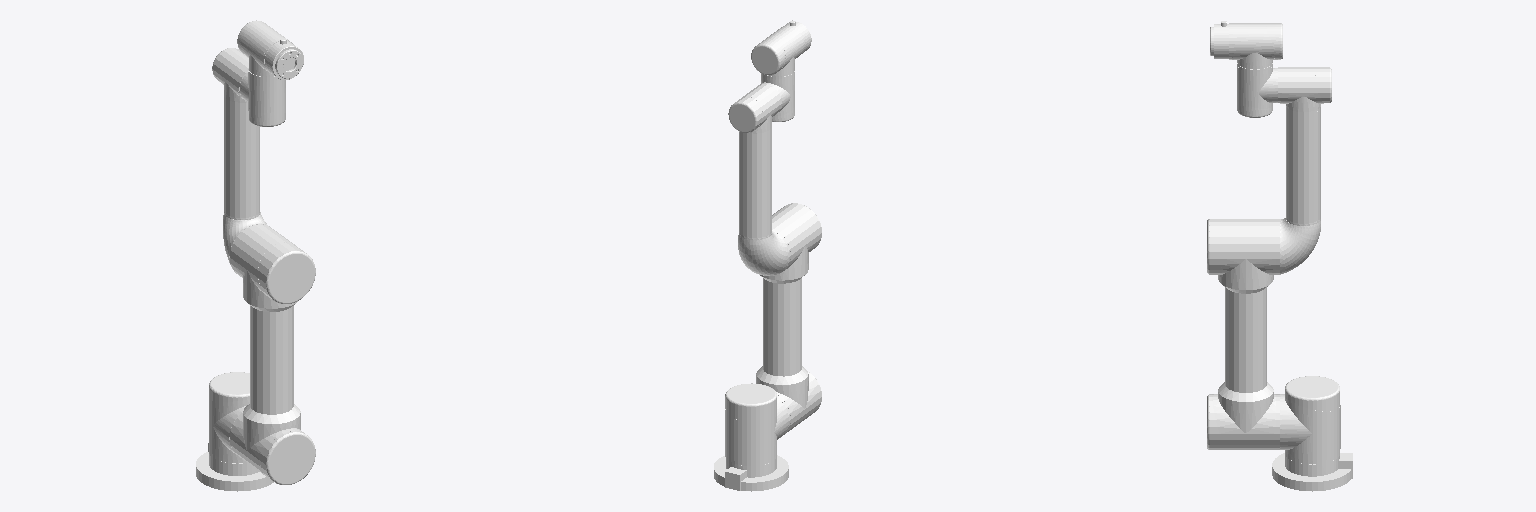
The robot description file, URDF, robot "aubo_i5":
<?xml version="1.0"?>
<robot name="aubo_i5">
  <dh_type type="modified"/>
  <safety_para singularity_consistent="0.02 0.01 10 0.2 0.045 10"/>
  <render_settings ambient_light_color="0xffffff" ambient_light_intensity="0.9" directional_light_color="0xffffff" directional_light_intensity="0.3"/>
  <friction_coeff value="0.65"/>
  <link name="aubo_base">
    <inertial>
      <origin xyz="0.000129 0.001249 0.016678" rpy="0 0 0" />
      <mass value="1.53902" />
      <inertia ixx="0.003278" ixy="-0.000001" ixz="-0.000001" iyy="0.003017" iyz="-0.000048" izz="0.005841" />
    </inertial>
    <visual>
      <origin xyz="0 0 0" rpy="0 0 0" />
      <geometry>
        <mesh filename="package://aubo_description/meshes/aubo_i5/visual/link0.DAE" />
      </geometry>
      <material name="">
        <color rgba="1 1 1 1" />
      </material>
    </visual>
    <collision>
      <origin xyz="0 0 0" rpy="0 0 0" />
      <geometry>
        <mesh filename="package://aubo_description/meshes/aubo_i5/collision/link0.STL" />
      </geometry>
    </collision>
  </link>

  <link name="shoulder_Link">
    <inertial>
      <origin xyz="-0.00001 0.001807 -0.013854" rpy="0 0 0" />
      <mass value="4.848581" />
      <inertia ixx="0.011842" ixy="0" ixz="0.000004" iyy="0.0118" iyz="-0.000103" izz="0.008103" />
    </inertial>
    <visual>
      <origin xyz="0 0 0" rpy="0 0 0" />
      <geometry>
        <mesh filename="package://aubo_description/meshes/aubo_i5/visual/link1.DAE" />
      </geometry>
      <material name="">
        <color rgba="1 1 1 1" />
      </material>
    </visual>
    <collision>
      <origin xyz="0 0 0" rpy="0 0 0" />
      <geometry>
        <mesh filename="package://aubo_description/meshes/aubo_i5/collision/link1.STL" />
      </geometry>
    </collision>
  </link>

  <joint name="shoulder_joint" type="revolute">
    <origin xyz="0 0 0.122" rpy="0 0 3.1415926535897932384626433832795" />
    <parent link="aubo_base" />
    <child link="shoulder_Link" />
    <axis xyz="0 0 1" />
    <limit lower="-6.283185307179586476925286766559" upper="6.283185307179586476925286766559" effort="133" start_stop="207" velocity="2.5964" />
    <property inertia="2.027236783" damping="0" stiffness="0" offset="0" motor_constant="8.72" ratio="121" protect_max_torque="80.0" equa_inertia="1.5" collision_detection_para = "50 50 30 20"/>
  </joint>

  <link name="upperArm_Link">
    <inertial>
      <origin xyz="0.2040 0 0.006603" rpy="0 0 0" />
      <mass value="10.836261" />
      <inertia ixx="0.026024" ixy="0.00002" ixz="0" iyy="0.432805" iyz="0" izz="0.425155" />
    </inertial>
    <visual>
      <origin xyz="0 0 0" rpy="0 0 0" />
      <geometry>
        <mesh filename="package://aubo_description/meshes/aubo_i5/visual/link2.DAE" />
      </geometry>
      <material name="">
        <color rgba="1 1 1 1" />
      </material>
    </visual>
    <collision>
      <origin xyz="0 0 0" rpy="0 0 0" />
      <geometry>
        <mesh filename="package://aubo_description/meshes/aubo_i5/collision/link2.STL" />
      </geometry>
    </collision>
  </link>

  <joint name="upperArm_joint" type="revolute">
    <origin xyz="0 0.1215 0" rpy="-1.5707963267948966192313216916398 -1.5707963267948966192313216916398 0" />
    <parent link="shoulder_Link" />
    <child link="upperArm_Link" />
    <axis xyz="0 0 1" />
    <limit lower="-6.283185307179586476925286766559" upper="6.283185307179586476925286766559" effort="133" start_stop="207" velocity="2.5964" />
    <property inertia="2.027236783" damping="0" stiffness="0" offset="0" motor_constant="8.72" ratio="121" protect_max_torque="80.0" equa_inertia="1.5" collision_detection_para = "50 50 30 20"/>
  </joint>

  <link name="foreArm_Link">
    <inertial>
      <origin xyz="0.264626 -0.00002 0.093611" rpy="0 0 0" />
      <mass value="2.849168" />
      <inertia ixx="0.003634" ixy="0.000007" ixz="0.000168" iyy="0.065327" iyz="0.000002" izz="0.064676" />
    </inertial>
    <visual>
      <origin xyz="0 0 0" rpy="0 0 0" />
      <geometry>
        <mesh filename="package://aubo_description/meshes/aubo_i5/visual/link3.DAE" />
      </geometry>
      <material name="">
        <color rgba="1 1 1 1" />
      </material>
    </visual>
    <collision>
      <origin xyz="0 0 0" rpy="0 0 0" />
      <geometry>
        <mesh filename="package://aubo_description/meshes/aubo_i5/collision/link3.STL" />
      </geometry>
    </collision>
  </link>

  <joint name="foreArm_joint" type="revolute">
    <origin xyz="0.408 0 0" rpy="-3.1415926535897932384626433832795 0 0" />
    <parent link="upperArm_Link" />
    <child link="foreArm_Link" />
    <axis xyz="0 0 1" />
    <limit lower="-6.283185307179586476925286766559" upper="6.283185307179586476925286766559" effort="133" start_stop="207" velocity="2.5964" />
    <property inertia="2.027236783" damping="0" stiffness="0" offset="0" motor_constant="8.72" ratio="121" protect_max_torque="60.0" equa_inertia="1.2" collision_detection_para = "50 50 30 20"/>
  </joint>

  <link name="wrist1_Link">
    <inertial>
      <origin xyz="0.000038 0.011278 -0.001539" rpy="0 0 0" />
      <mass value="1.628022" />
      <inertia ixx="0.001951" ixy="0.000003" ixz="0.000001" iyy="0.001154" iyz="-0.000042" izz="0.001931" />
    </inertial>
    <visual>
      <origin xyz="0 0 0" rpy="0 0 0" />
      <geometry>
        <mesh filename="package://aubo_description/meshes/aubo_i5/visual/link4.DAE" />
      </geometry>
      <material name="">
        <color rgba="1 1 1 1" />
      </material>
    </visual>
    <collision>
      <origin xyz="0 0 0" rpy="0 0 0" />
      <geometry>
        <mesh filename="package://aubo_description/meshes/aubo_i5/collision/link4.STL" />
      </geometry>
    </collision>
  </link>

  <joint name="wrist1_joint" type="revolute">
    <origin xyz="0.376 0 0" rpy="3.1415926535897932384626433832795 0 1.5707963267948966192313216916398" />
    <parent link="foreArm_Link" />
    <child link="wrist1_Link" />
    <axis xyz="0 0 1" />
    <limit lower="-6.283185307179586476925286766559" upper="6.283185307179586476925286766559" effort="13.5" start_stop="34" velocity="3.1105" />
    <property inertia="0.219280696" damping="0" stiffness="0" offset="0" motor_constant="7.092" ratio="101" protect_max_torque="16.0" equa_inertia="0.05" collision_detection_para = "50 50 30 20"/>
  </joint>

  <link name="wrist2_Link">
    <inertial>
      <origin xyz="-0.000038 -0.011278 -0.001539" rpy="0 0 0" />
      <mass value="1.628022" />
      <inertia ixx="0.001951" ixy="0.000003" ixz="-0.000001" iyy="0.001154" iyz="0.000042" izz="0.001931" />
    </inertial>
    <visual>
      <origin xyz="0 0 0" rpy="0 0 0" />
      <geometry>
        <mesh filename="package://aubo_description/meshes/aubo_i5/visual/link5.DAE" />
      </geometry>
      <material name="">
        <color rgba="1 1 1 1" />
      </material>
    </visual>
    <collision>
      <origin xyz="0 0 0" rpy="0 0 0" />
      <geometry>
        <mesh filename="package://aubo_description/meshes/aubo_i5/collision/link5.STL" />
      </geometry>
    </collision>
  </link>

  <joint name="wrist2_joint" type="revolute">
    <origin xyz="0 0.1025 0" rpy="-1.5707963267948966192313216916398 0 0" />
    <parent link="wrist1_Link" />
    <child link="wrist2_Link" />
    <axis xyz="0 0 1" />
    <limit lower="-6.283185307179586476925286766559" upper="6.283185307179586476925286766559" effort="13.5" start_stop="34" velocity="3.1105" />
    <property inertia="0.219280696" damping="0" stiffness="0" offset="0" motor_constant="7.092" ratio="101" protect_max_torque="16.0" equa_inertia="0.05" collision_detection_para = "50 50 30 20"/>
  </joint>

  <link name="wrist3_Link">
    <inertial>
      <origin xyz="0.000022 0.0006 -0.017081" rpy="0 0 0" />
      <mass value="0.1978" />
      <inertia ixx="0.000118" ixy="0.0" ixz="0" iyy="0.000112" iyz="0.000001" izz="0.000184" />
    </inertial>
    <visual>
      <origin xyz="0 0 0" rpy="0 0 0" />
      <geometry>
        <mesh filename="package://aubo_description/meshes/aubo_i5/visual/link6.DAE" />
      </geometry>
      <material name="">
        <color rgba="1 1 1 1" />
      </material>
    </visual>
    <collision>
      <origin xyz="0 0 0" rpy="0 0 0" />
      <geometry>
        <mesh filename="package://aubo_description/meshes/aubo_i5/collision/link6.STL" />
      </geometry>
    </collision>
  </link>

  <joint name="wrist3_joint" type="revolute">
    <origin xyz="0 -0.094 0" rpy="1.5707963267948966192313216916398 0 0" />
    <parent link="wrist2_Link" />
    <child link="wrist3_Link" />
    <axis xyz="0 0 1" />
    <limit lower="-6.283185307179586476925286766559" upper="6.283185307179586476925286766559" effort="13.5" start_stop="34" velocity="3.1105" />
    <property inertia="0.219280696" damping="0" stiffness="0" offset="0" motor_constant="7.092" ratio="101" protect_max_torque="10.0" equa_inertia="0.01" collision_detection_para = "50 50 30 20"/>
  </joint>

  <link name="world" />

  <joint name="world_joint" type="fixed">
    <parent link="world" />
    <child link = "aubo_base" />
    <origin xyz="0.0 0.0 0.0" rpy="0.0 0.0 0.0" />
  </joint>
</robot>

--- What the picture shows (computed from the rendered views, not written in the file) ---
The picture shows the robot from 3 angles, left to right: view 1: azimuth 30°, elevation 25°; view 2: azimuth 150°, elevation 25°; view 3: azimuth 270°, elevation 25°; orthographic projection.
Model aubo_i5 with 8 links and 7 joints (6 revolute, 1 fixed), rooted at world, posed all joints at 0.
Links seen in each view (by area): view 1: upperArm_Link, foreArm_Link, shoulder_Link, wrist1_Link, aubo_base, wrist2_Link, wrist3_Link; view 2: upperArm_Link, foreArm_Link, shoulder_Link, aubo_base, wrist2_Link, wrist1_Link; view 3: upperArm_Link, foreArm_Link, shoulder_Link, wrist2_Link, aubo_base, wrist1_Link, wrist3_Link.
Boxes of the visible links, <box> form: upperArm_Link: <box>230,224,315,484</box>; foreArm_Link: <box>212,48,269,273</box>; shoulder_Link: <box>209,372,249,463</box>; wrist1_Link: <box>240,71,285,126</box>; aubo_base: <box>196,443,273,491</box>; wrist2_Link: <box>237,20,292,76</box>; wrist3_Link: <box>265,38,303,79</box>; upperArm_Link: <box>756,203,821,434</box>; foreArm_Link: <box>728,84,788,275</box>; shoulder_Link: <box>725,383,788,465</box>; aubo_base: <box>714,455,788,491</box>; wrist2_Link: <box>751,26,804,76</box>; wrist1_Link: <box>760,71,794,121</box>; upperArm_Link: <box>1207,219,1279,449</box>; foreArm_Link: <box>1278,67,1331,274</box>; shoulder_Link: <box>1280,376,1340,464</box>; wrist2_Link: <box>1229,23,1282,69</box>; aubo_base: <box>1272,453,1352,491</box>; wrist1_Link: <box>1237,63,1277,117</box>; wrist3_Link: <box>1210,21,1228,58</box>.
Bounding box of the posed robot: 0.17 × 0.3072 × 1.05 m (x, y, z).
Meshes: 7 distinct files referenced, 7 mesh visuals loaded (7 Collada DAE).